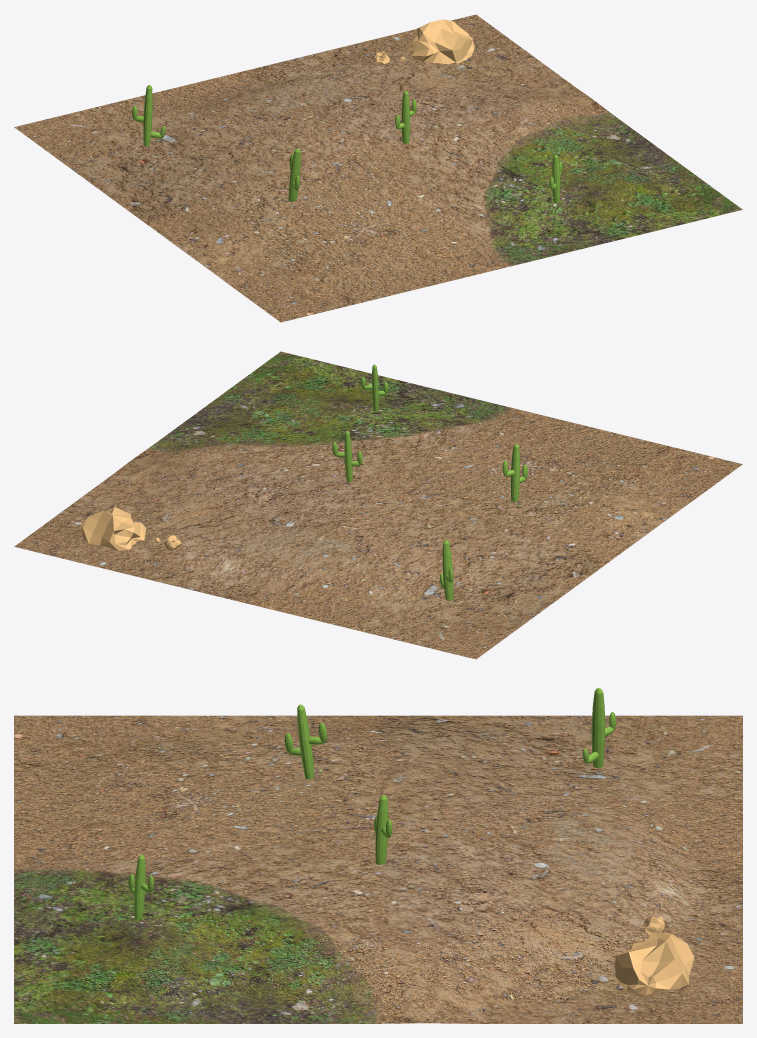
Rendered from SSSF.fbx.
3 views of the same model, one above another, from view 1: azimuth 30°, elevation 25°; view 2: azimuth 150°, elevation 25°; view 3: azimuth 270°, elevation 25° (orthographic). The views are drawn at different scales.
Visible parts, largest first — view 1: Plane, group1446250878, group1910377098.001, group1305359395; view 2: Plane, group1446250878, group1305359395, group1910377098.001, group809628526; view 3: Plane, group1446250878, group1305359395, group809628526, group1910377098.001, group1910377098.
Part boxes in pixels (x1=…): Plane: x1=14, y1=14, x2=742, y2=322; group1446250878: x1=407, y1=19, x2=474, y2=64; group1910377098.001: x1=395, y1=91, x2=416, y2=143; group1305359395: x1=288, y1=148, x2=300, y2=201; Plane: x1=14, y1=351, x2=742, y2=659; group1446250878: x1=80, y1=507, x2=146, y2=550; group1305359395: x1=502, y1=443, x2=527, y2=501; group1910377098.001: x1=332, y1=430, x2=362, y2=481; group809628526: x1=442, y1=540, x2=453, y2=600; Plane: x1=14, y1=715, x2=742, y2=1023; group1446250878: x1=615, y1=932, x2=694, y2=996; group1305359395: x1=284, y1=704, x2=326, y2=779; group809628526: x1=591, y1=688, x2=605, y2=768; group1910377098.001: x1=374, y1=795, x2=392, y2=864; group1910377098: x1=128, y1=855, x2=153, y2=919.
Bounding box in the file's own units: 500 × 86.93 × 500.
